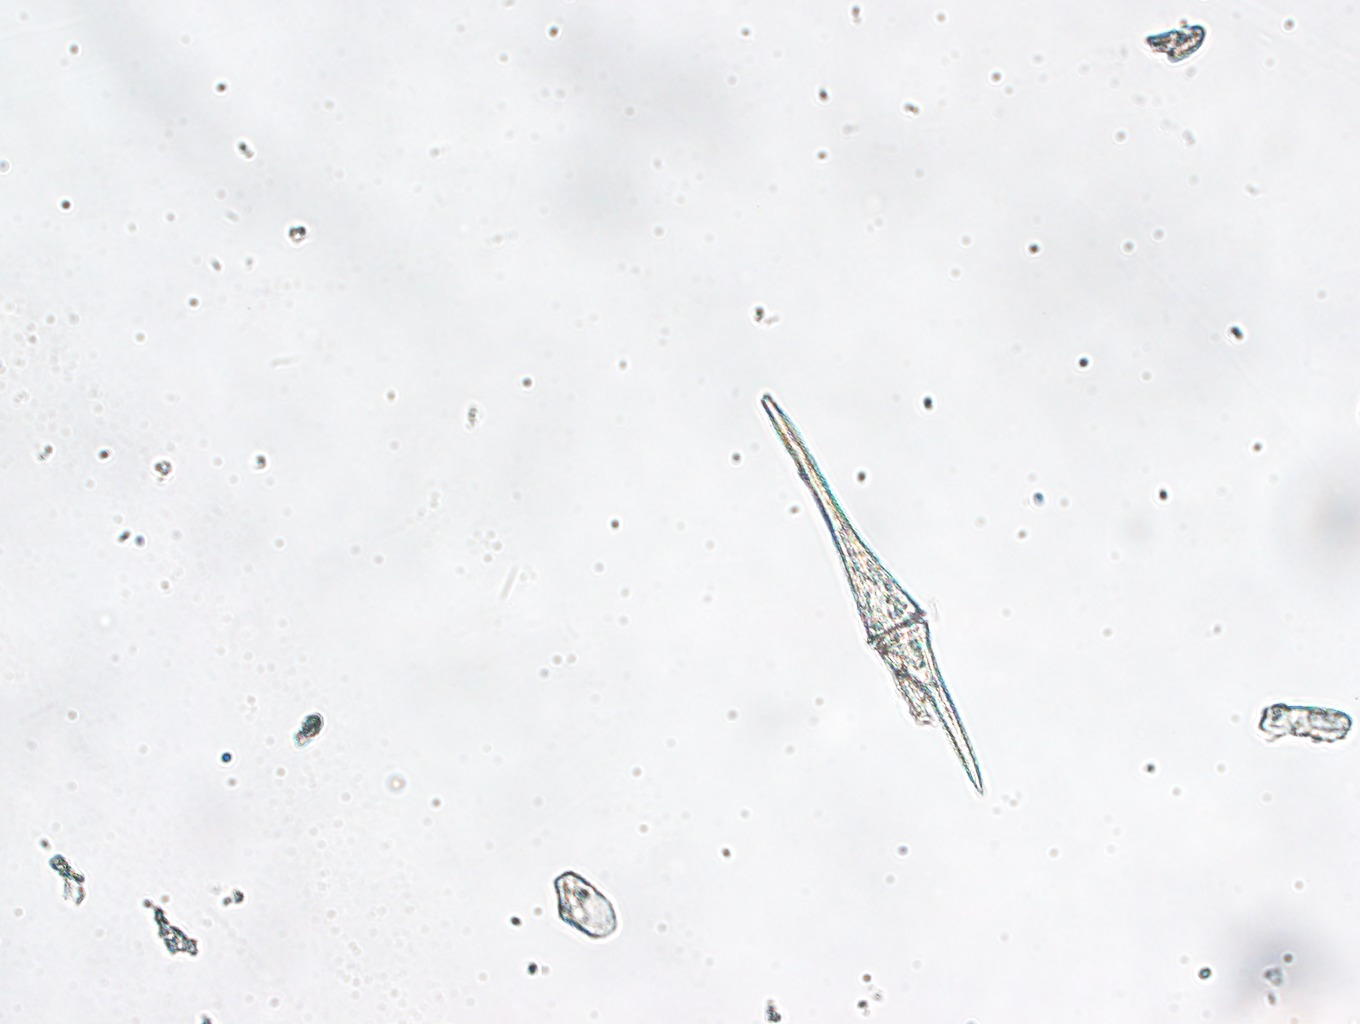ceratium furca: (761, 396, 985, 796)
